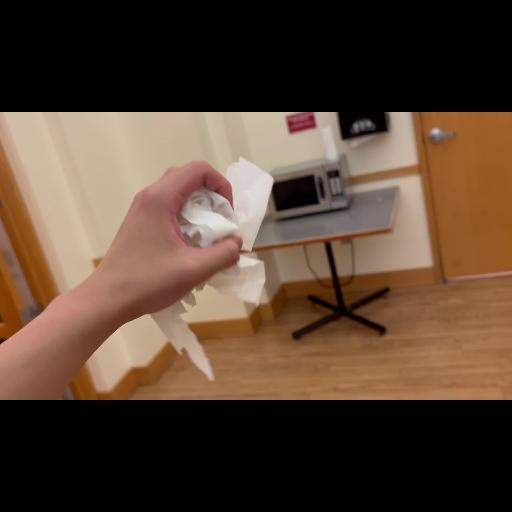napkin: (143, 159, 277, 389)
